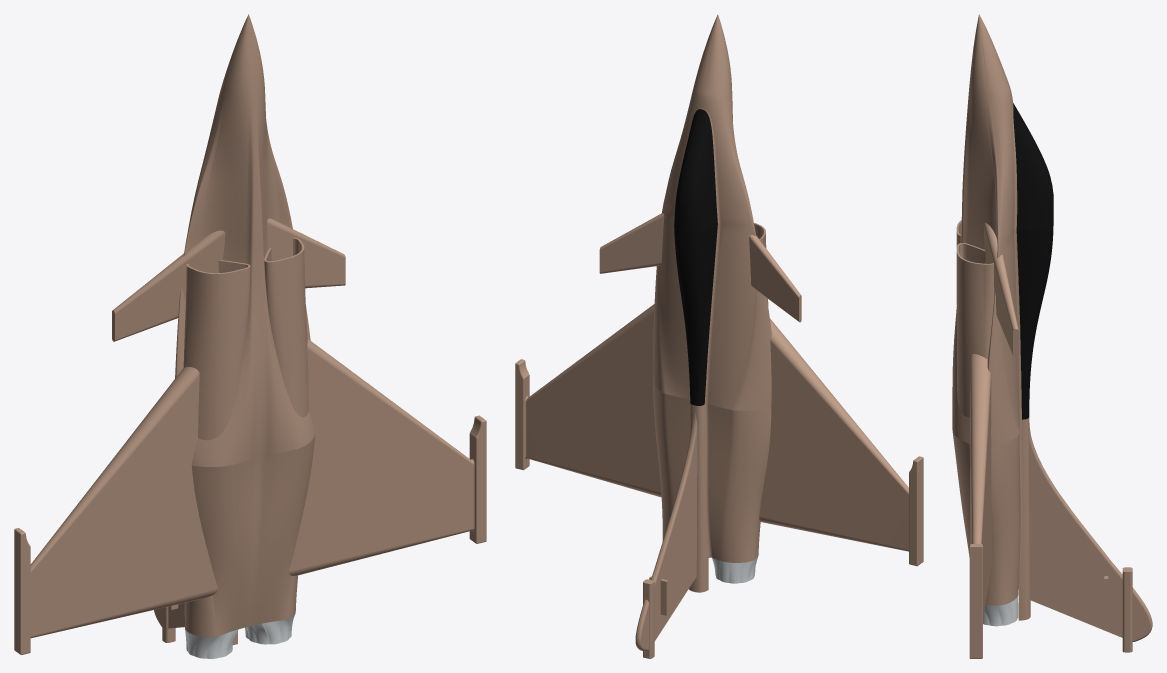
3 views of the same model, side by side, from view 1: azimuth 30°, elevation 25°; view 2: azimuth 150°, elevation 25°; view 3: azimuth 270°, elevation 25° (orthographic). The views are drawn at different scales.
Parts seen in each view (by area): view 1: base_link; view 2: base_link; view 3: base_link.
Part boxes in pixels (x1,y1,x2,y2): base_link: (14,14,486,658); base_link: (515,14,923,658); base_link: (952,14,1152,658).
Bounding box in the file's own units: 0.0372 × 0.0149 × 0.0522.
